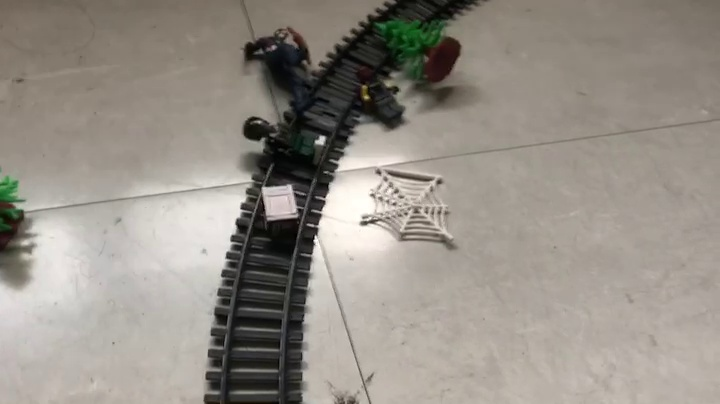box: (259, 183, 301, 244)
people: (243, 26, 321, 121), (242, 115, 331, 169), (356, 65, 406, 128)
tree: (372, 19, 465, 87)
web: (359, 166, 455, 244)
